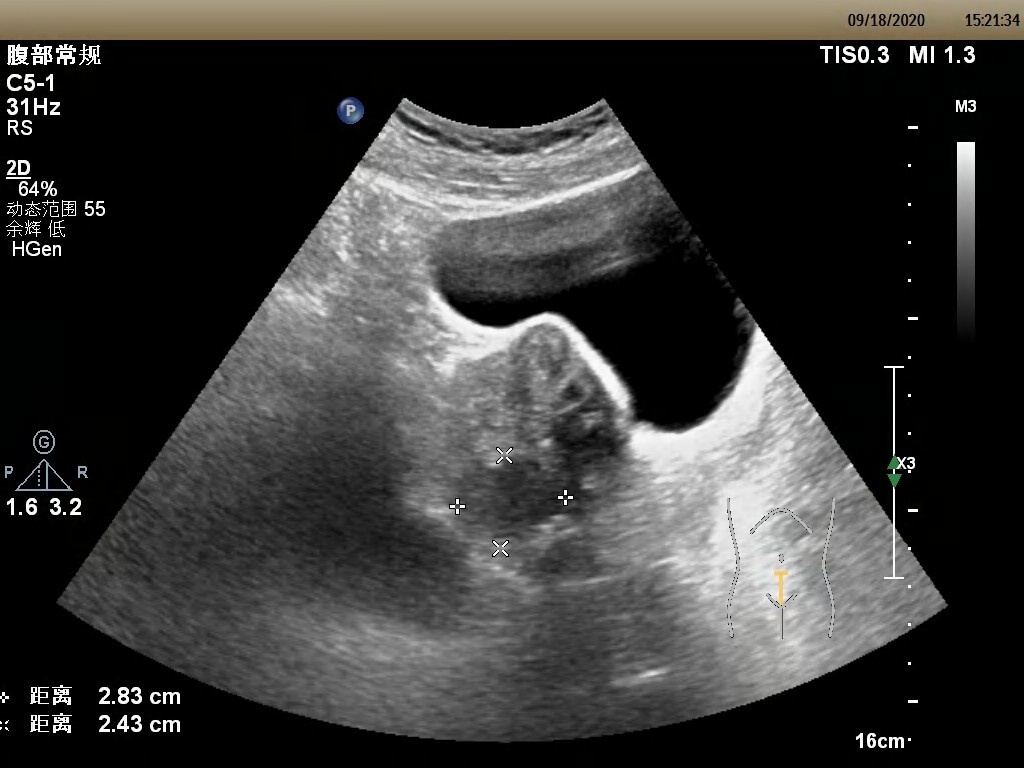肌瘤: (457, 455, 567, 548)
